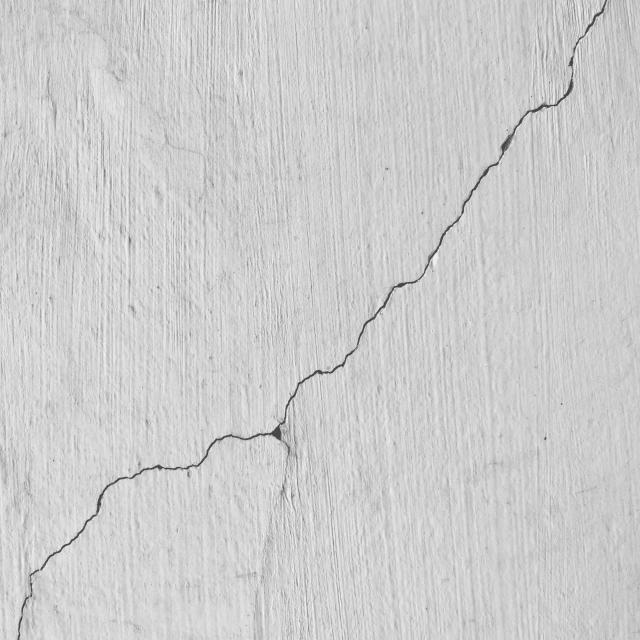Crack: (308, 11, 622, 413), (11, 413, 297, 608)
